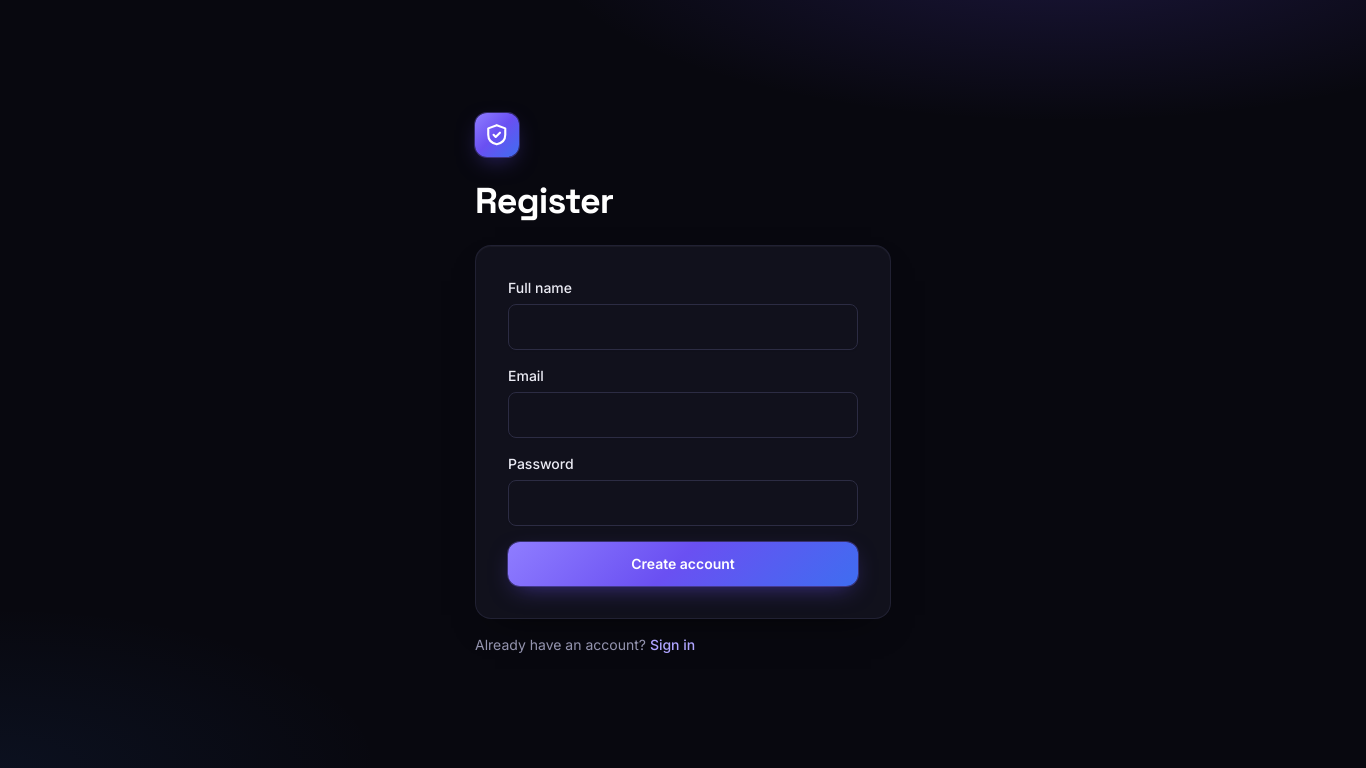
Scenario: Register page › shows a clear restricted message on 403 (prod requires ADMIN)
The image size is (1366, 768).
Type "New User" into the field labelled "Full name" at {"x": 683, "y": 327}, box [508,304,858,350]
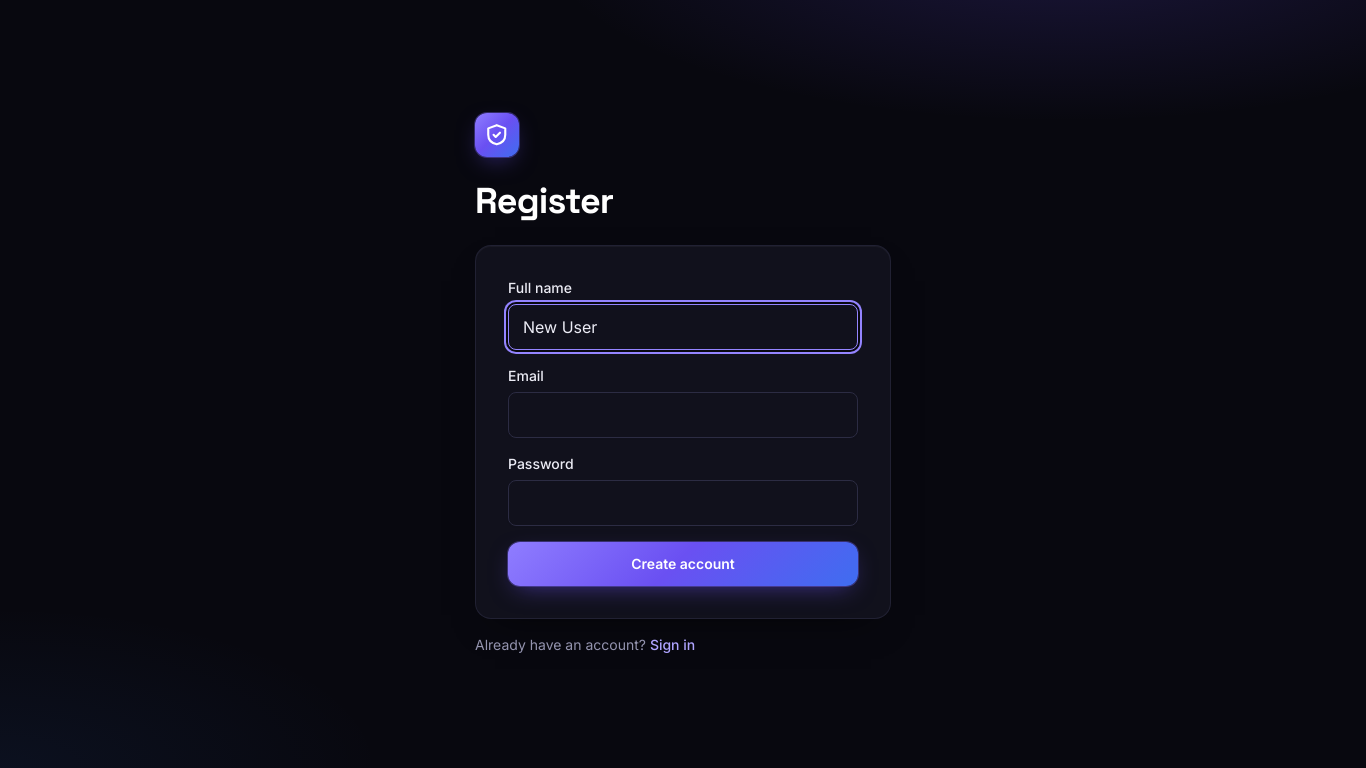
Type "new@example.com" into the field labelled "Email" at {"x": 683, "y": 415}, box [508,392,858,438]
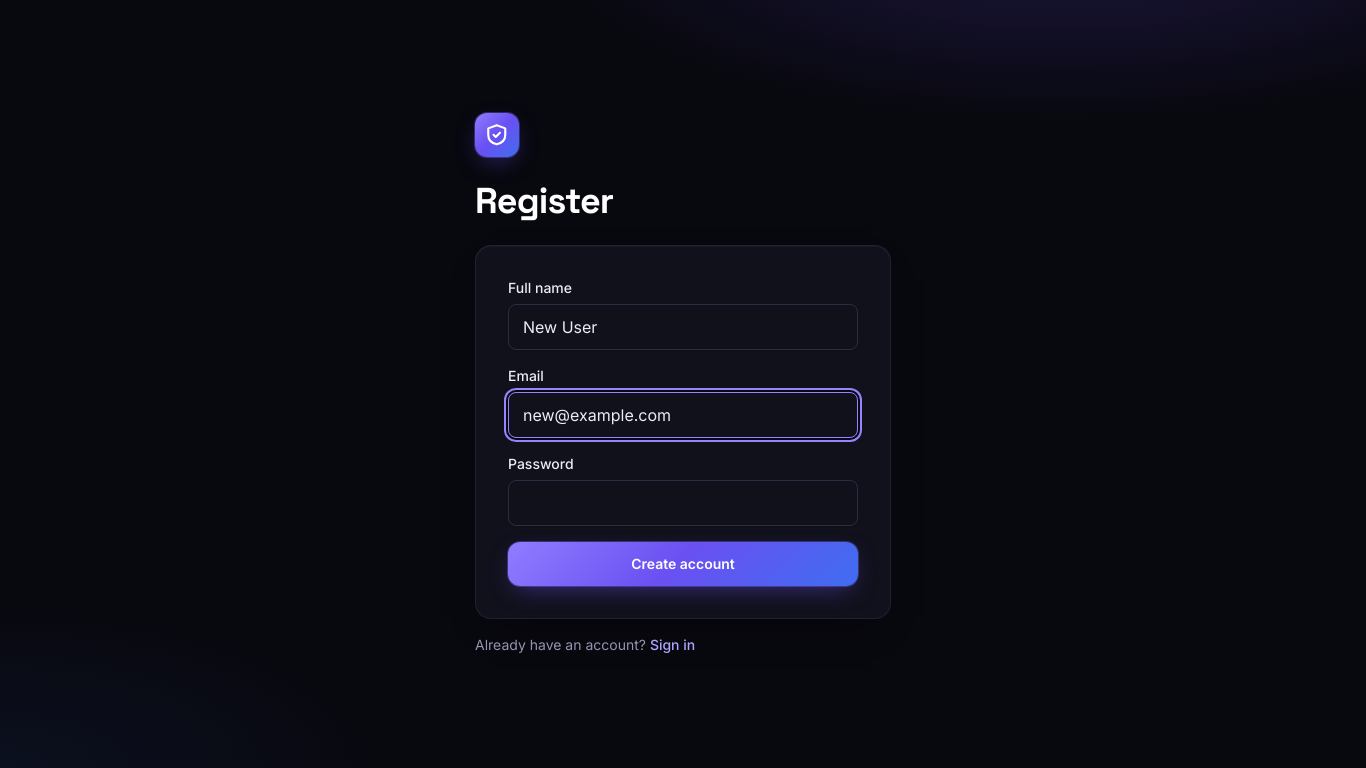
Type "a-strong-password" into the password field labelled "Password" at {"x": 683, "y": 503}, box [508,480,858,526]
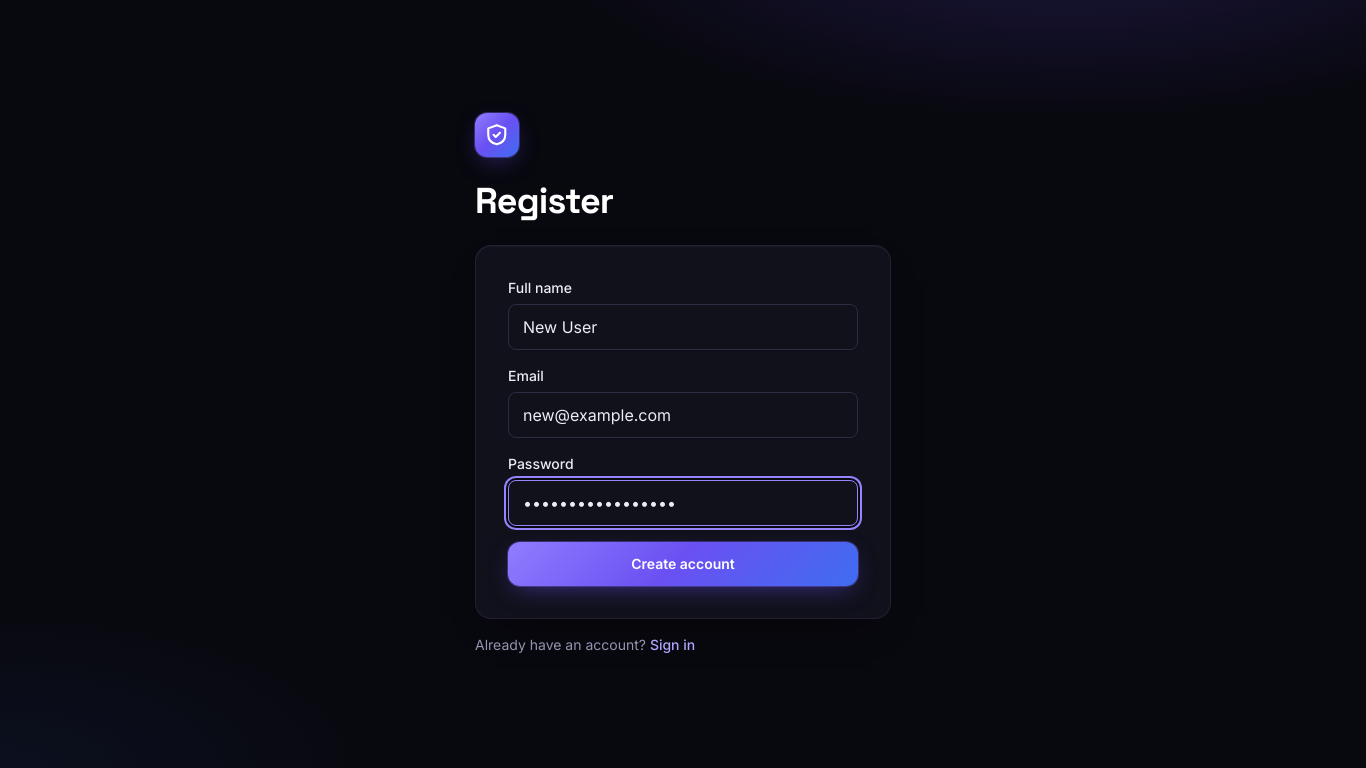
Click the button "Create account" at {"x": 683, "y": 564}, box [508,542,858,586]
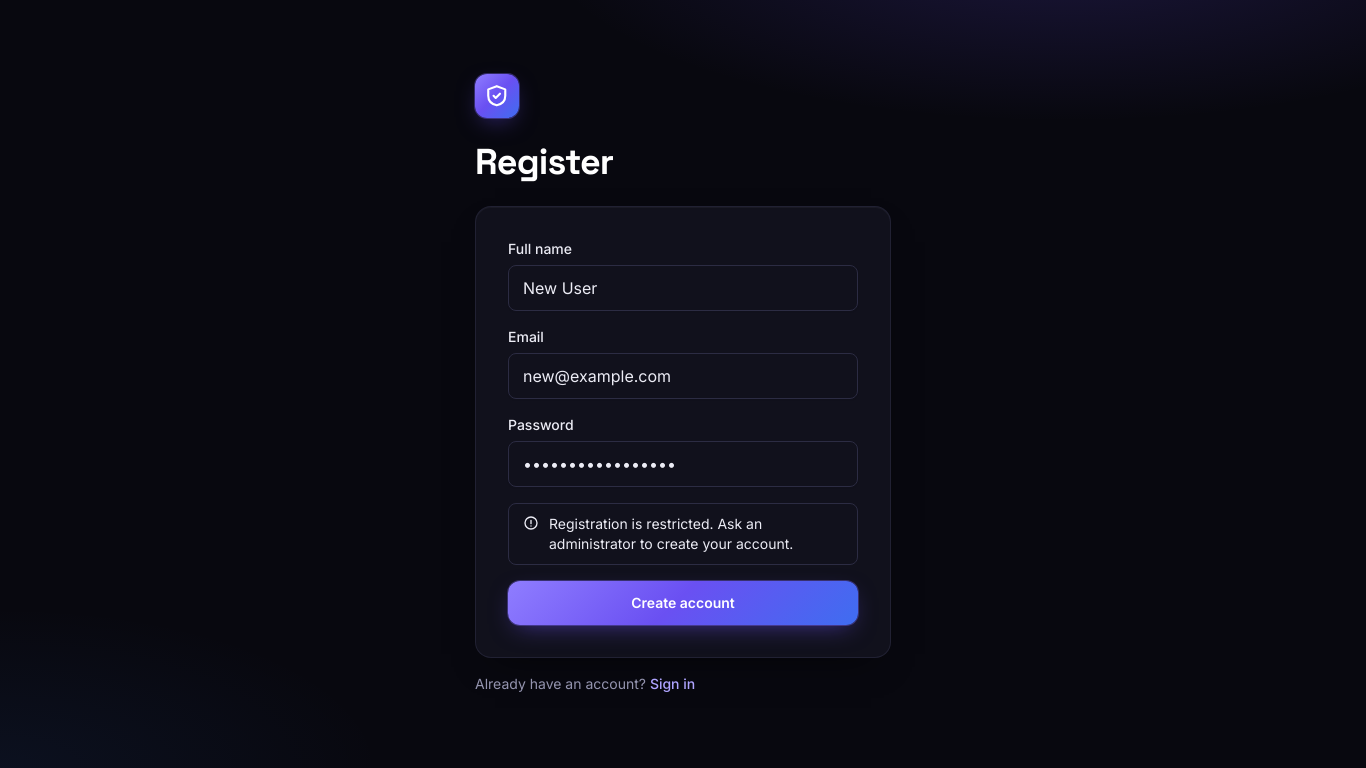
expect the message shows "restricted": met, box [549,515,793,552]
